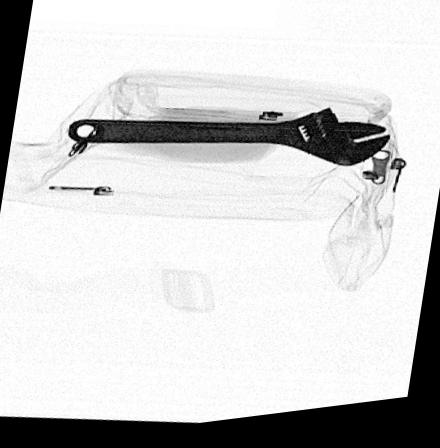Wrench: (65, 115, 392, 174)
